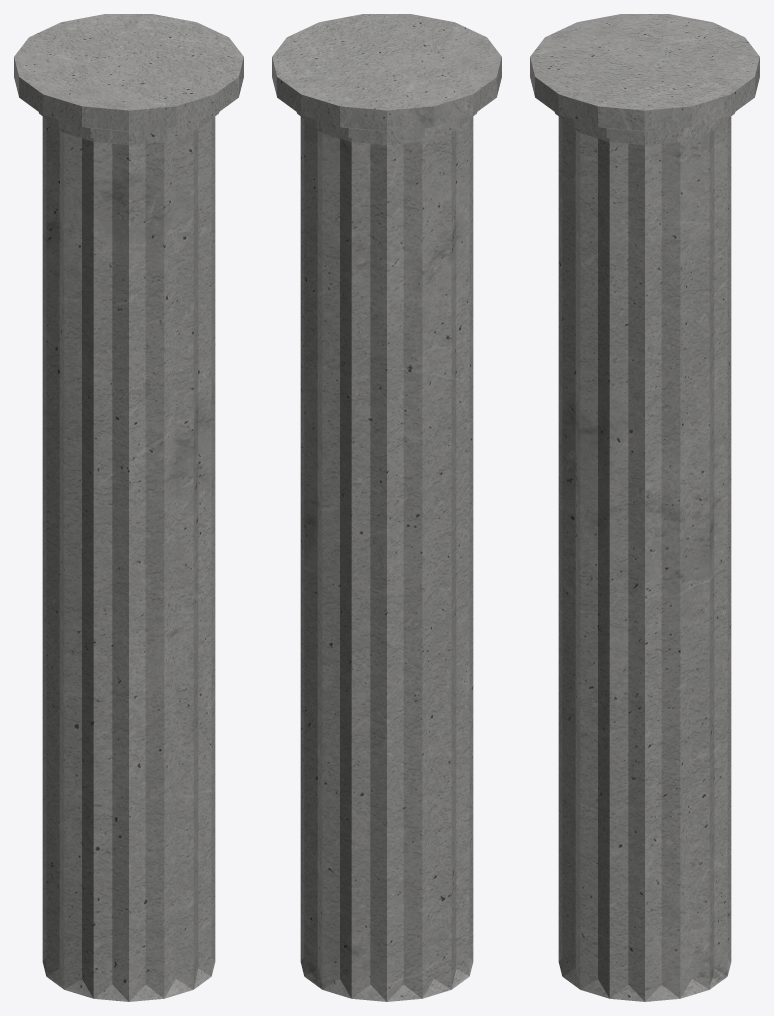
File: pilar_greece.glb
3 renders of one model, left to right at view 1: azimuth 30°, elevation 25°; view 2: azimuth 150°, elevation 25°; view 3: azimuth 270°, elevation 25°, orthographic.
Parts seen in each view (by area): view 1: PilarLP; view 2: PilarLP; view 3: PilarLP.
Boxes of the visible parts, x1,y1,x2,y2 form: PilarLP: (14, 14, 243, 1001); PilarLP: (272, 14, 501, 1001); PilarLP: (530, 14, 759, 1001).
Size of the model in its own units: 0.0263 by 0.1147 by 0.0264.
1 material, 1 textured.
